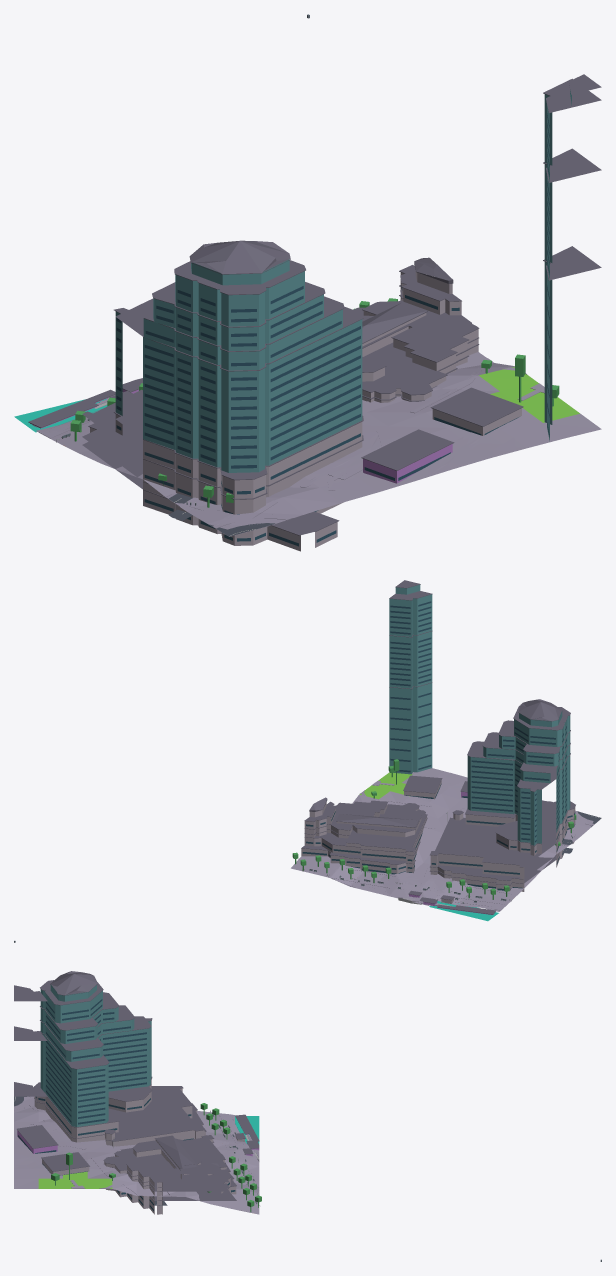
3 renders of one model, top to bottom at view 1: azimuth 30°, elevation 25°; view 2: azimuth 150°, elevation 25°; view 3: azimuth 270°, elevation 25°, orthographic. The views are drawn at different scales.
Parts seen in each view (by area): view 1: compiled-chunk; view 2: compiled-chunk; view 3: compiled-chunk.
Part boxes in pixels (<box>): compiled-chunk: <box>14,14,601,551</box>; compiled-chunk: <box>14,580,601,942</box>; compiled-chunk: <box>14,971,601,1261</box>.
Bounding box in the file's own units: 192 × 124 × 287.
